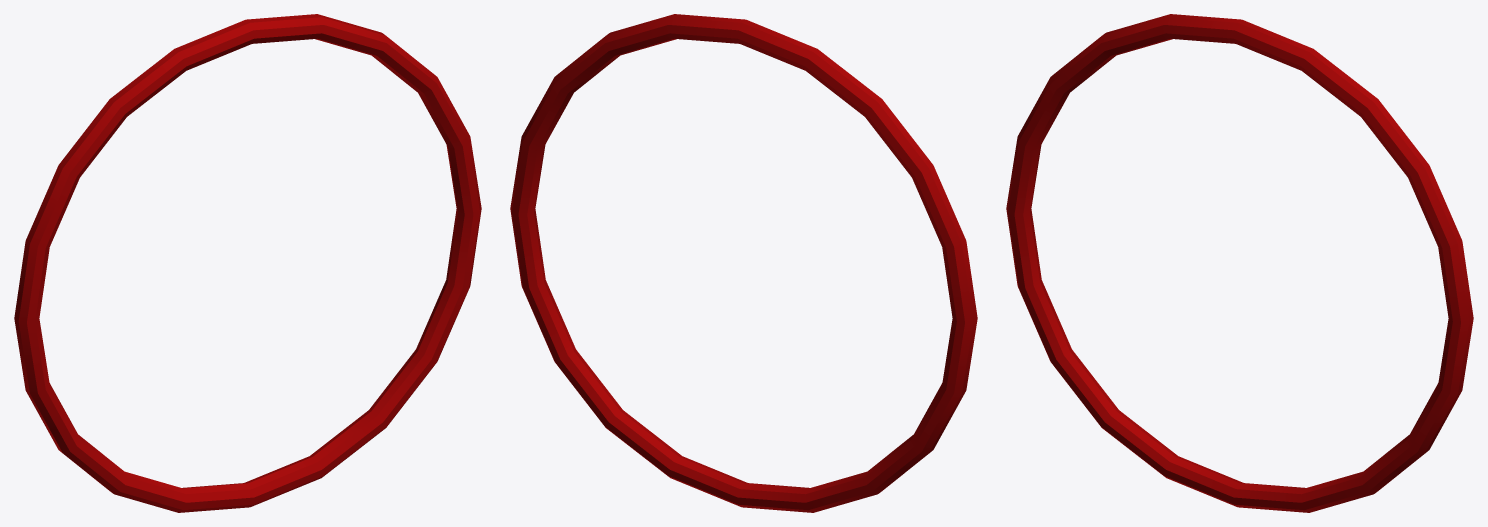
File: HoolaHoop_GEO.fbx
3 renders of one model, left to right at view 1: azimuth 30°, elevation 25°; view 2: azimuth 150°, elevation 25°; view 3: azimuth 330°, elevation 25°, orthographic.
Parts seen in each view (by area): view 1: HoolaHoop_GEO_MB_001; view 2: HoolaHoop_GEO_MB_001; view 3: HoolaHoop_GEO_MB_001.
Part boxes in pixels (box(x1,y1,x2,y2)): HoolaHoop_GEO_MB_001: box(14, 14, 481, 512); HoolaHoop_GEO_MB_001: box(510, 14, 977, 512); HoolaHoop_GEO_MB_001: box(1006, 14, 1473, 512).
Size of the model in its own units: 127 by 127 by 5.99.
